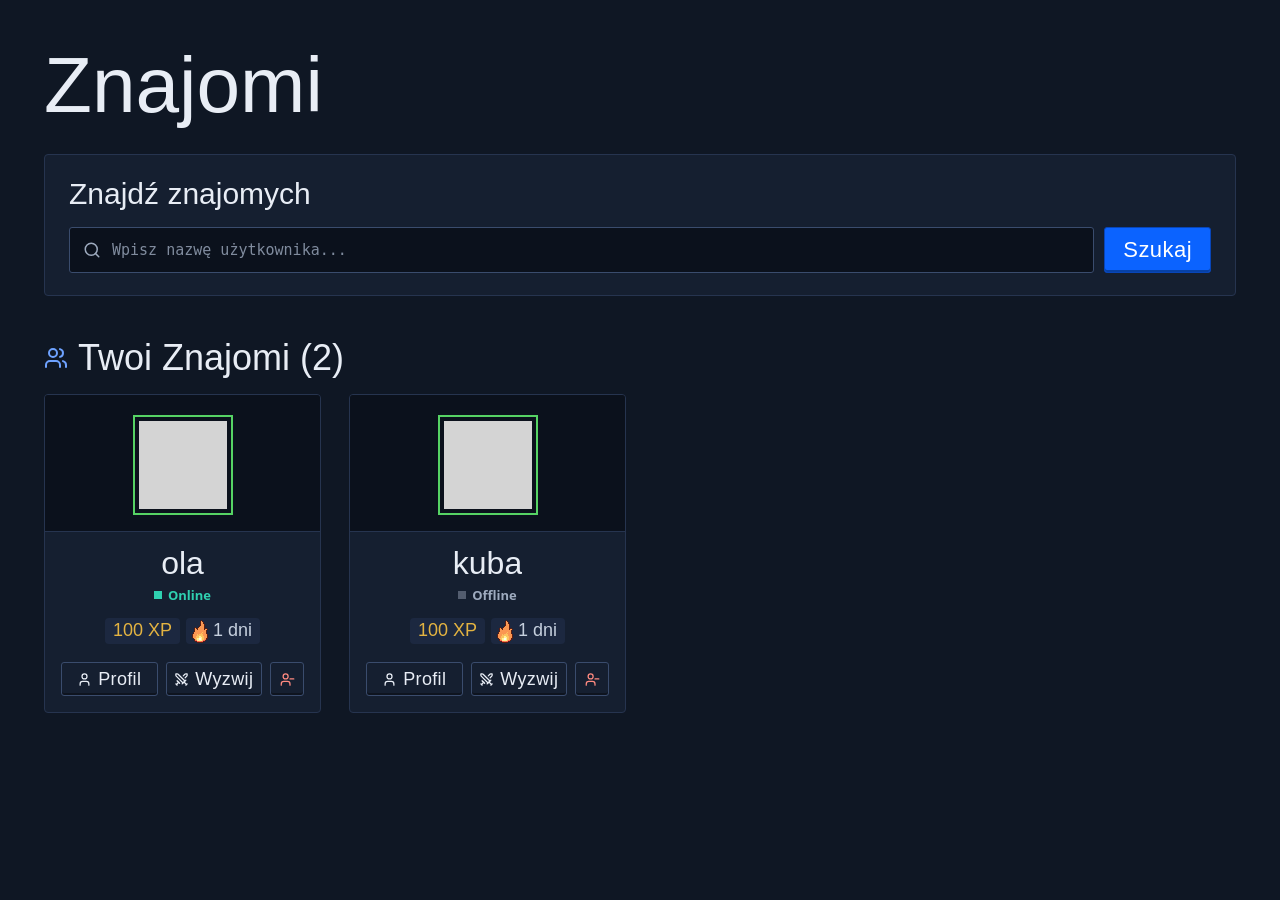
Scenario: friends page › removes the friend after confirmation and moves focus to the friend list heading
Click the button named "Usuń kuba ze znajomych".
click(592, 679)  # box [575,662,609,696]
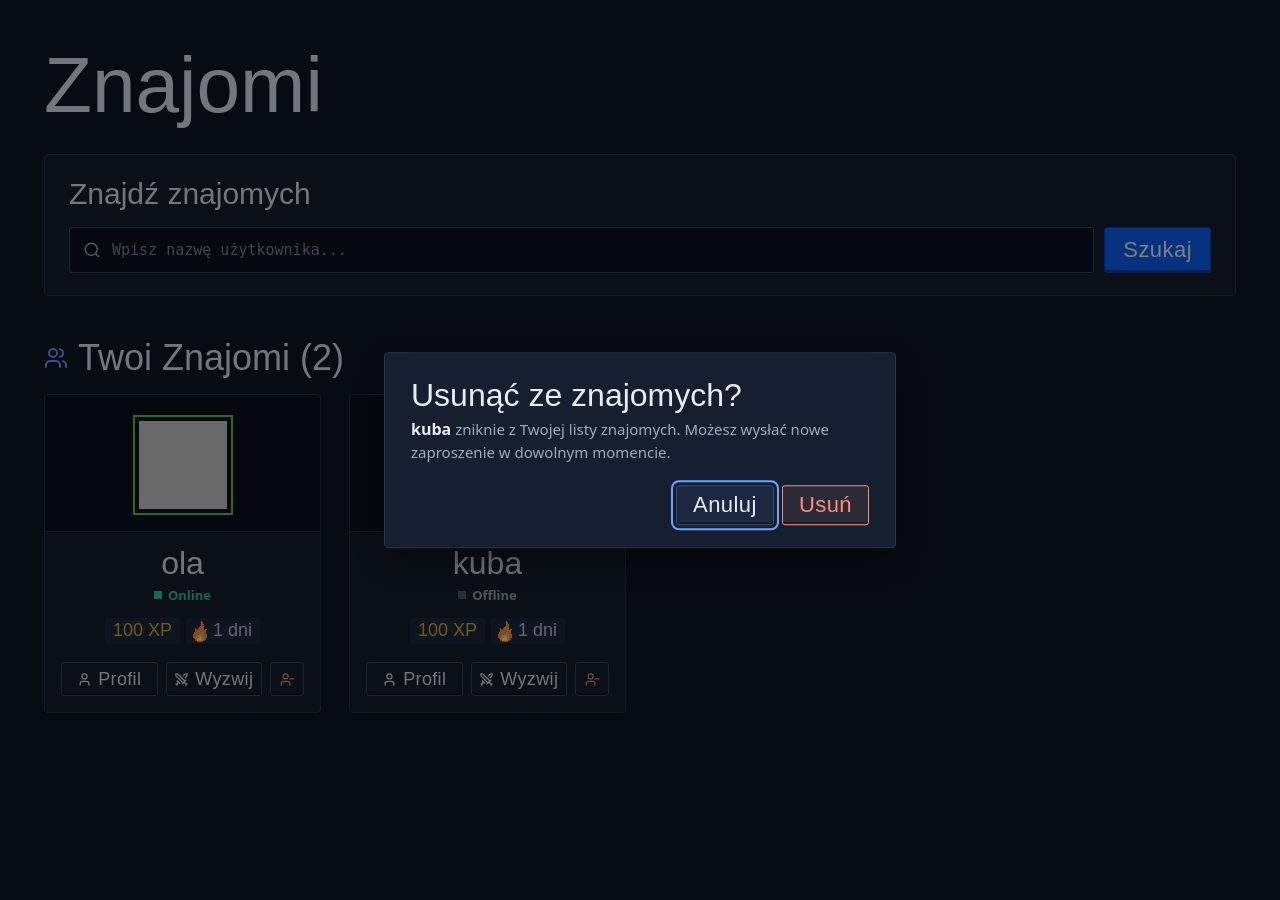
Click the button "Usuń".
click(825, 505)  # box [782,485,869,525]
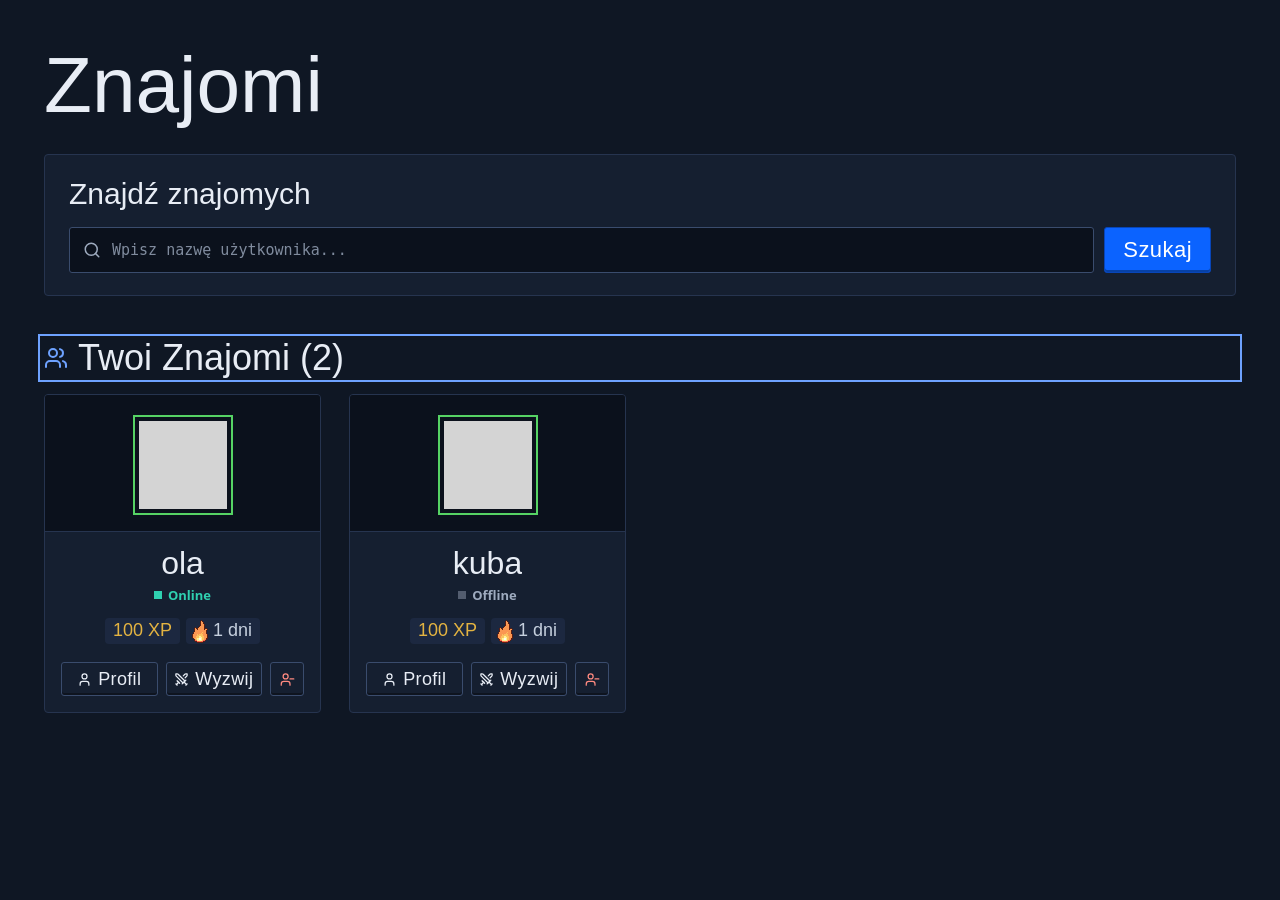
Check: the dialog is gone
